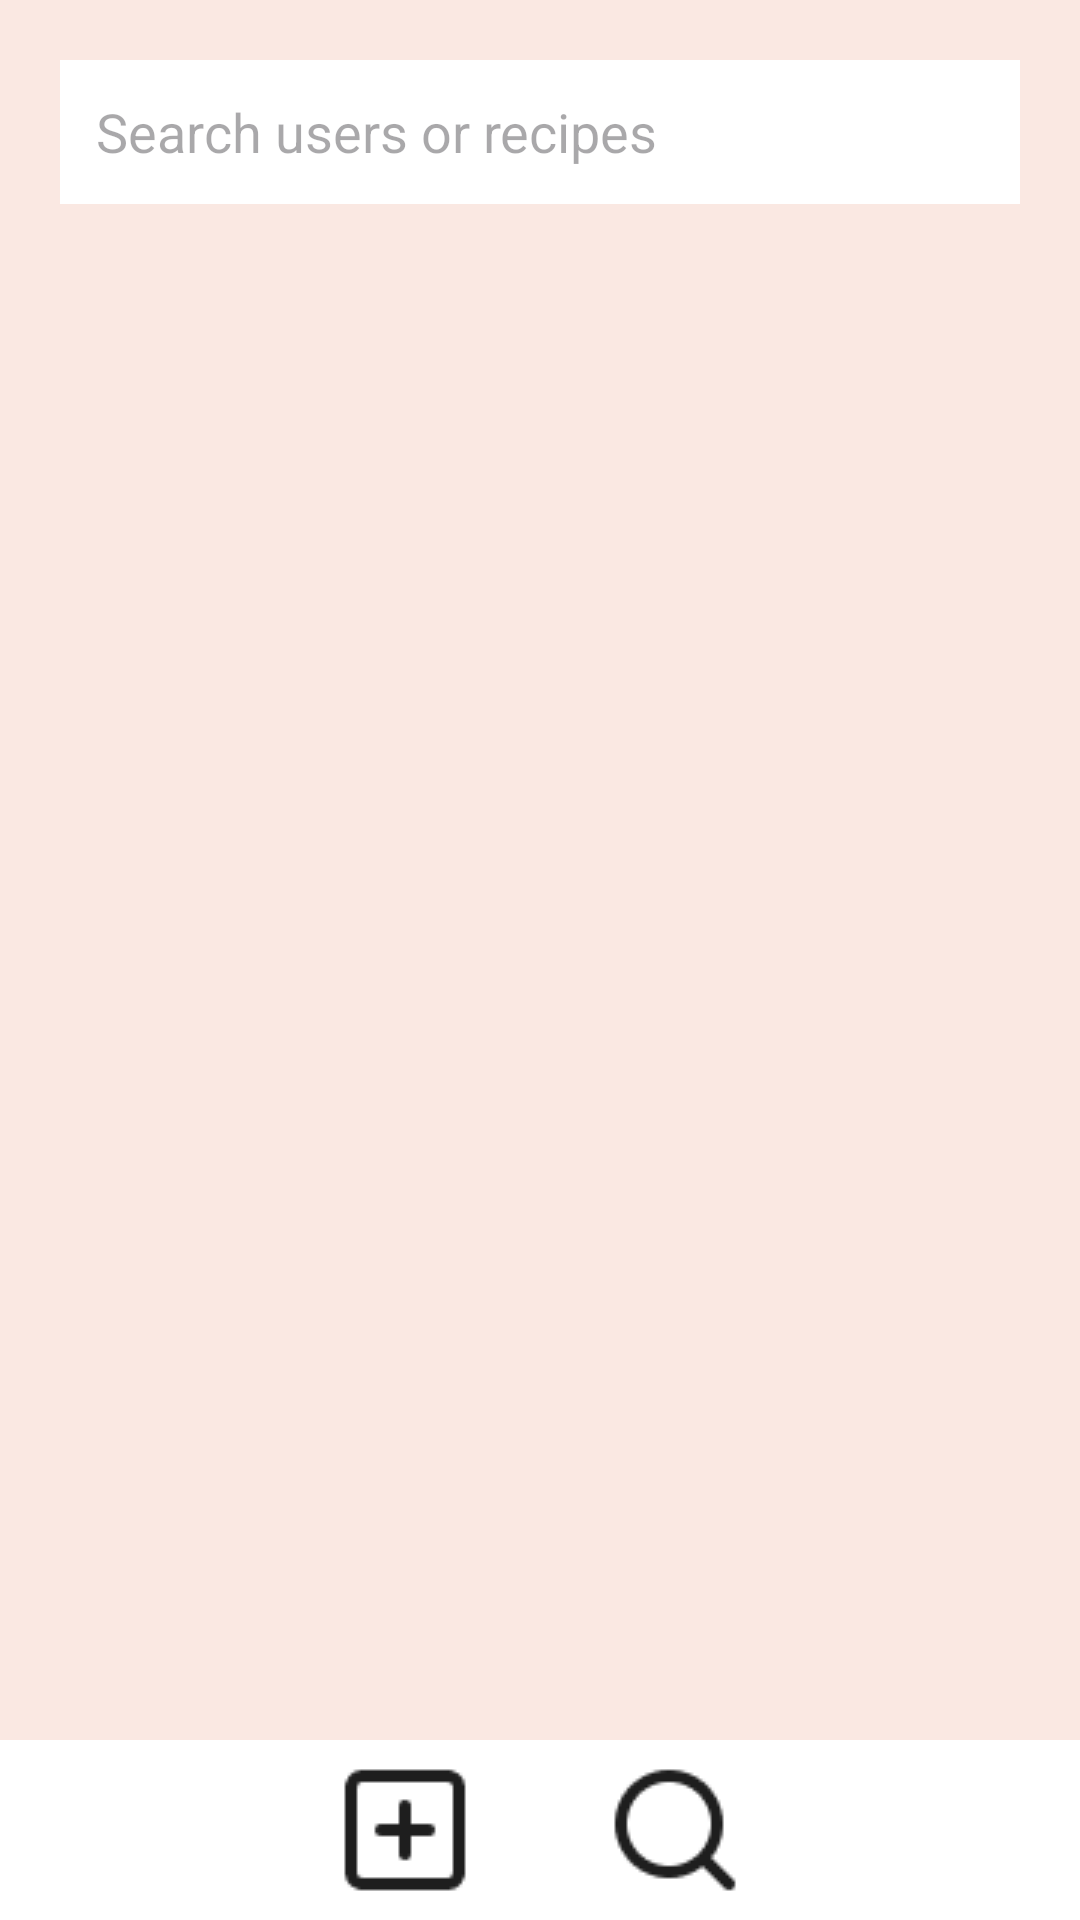

Icon click points for this 1080*1920 phone screenshot, format (x,y):
Add Post: (405,1830)
Search: (675,1830)
